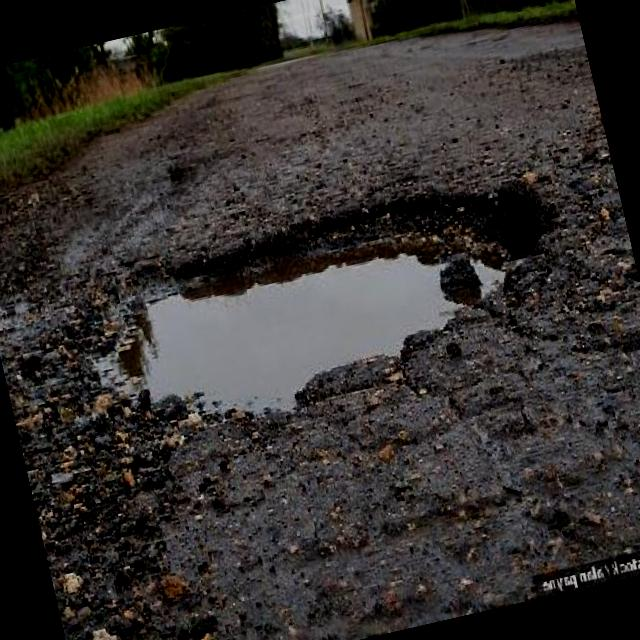pothole: (43, 155, 586, 466)
